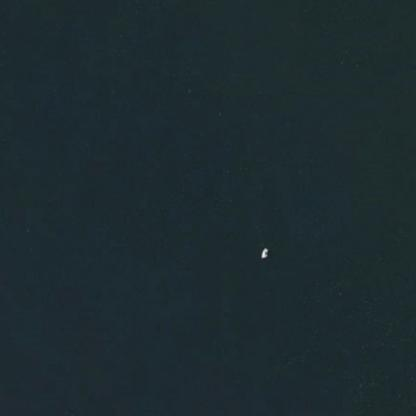ship: (253, 240, 273, 263)
